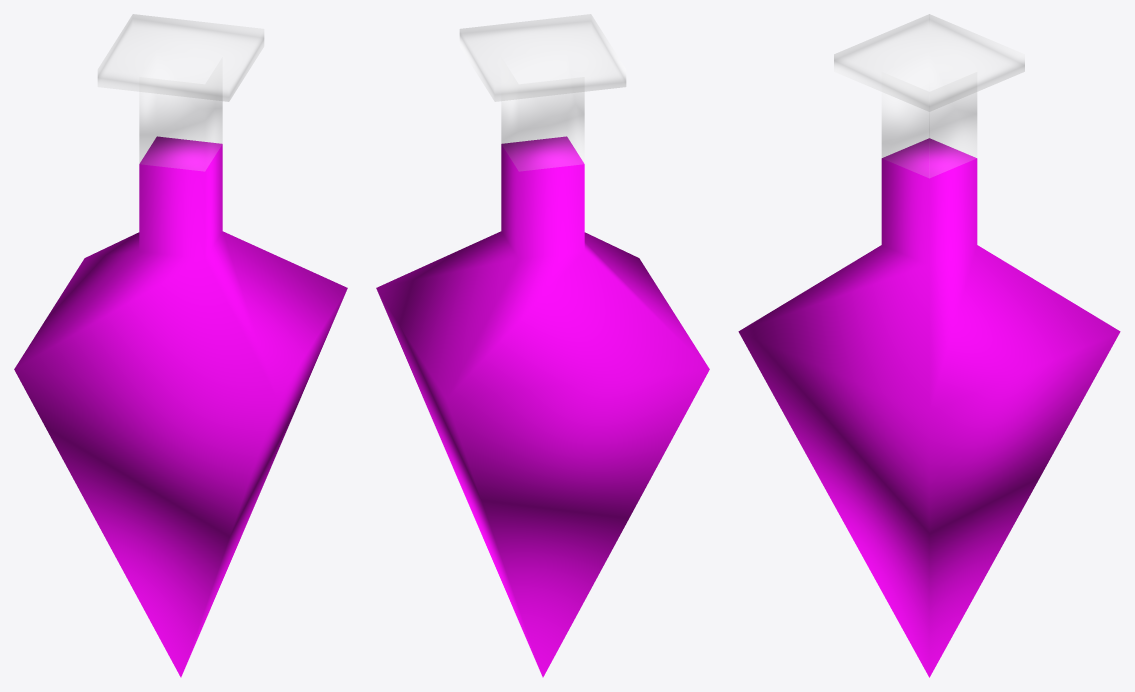
Rendered from Purple.glb.
3 renders of one model, left to right at view 1: azimuth 30°, elevation 25°; view 2: azimuth 150°, elevation 25°; view 3: azimuth 270°, elevation 25°, orthographic.
Visible parts, largest first — view 1: Filled; view 2: Filled; view 3: Filled.
Boxes of the visible parts, bbox=[...] form: Filled: bbox=[14, 14, 347, 677]; Filled: bbox=[376, 14, 709, 677]; Filled: bbox=[738, 14, 1120, 677].
Size of the model in its own units: 4 by 7.2 by 4.
